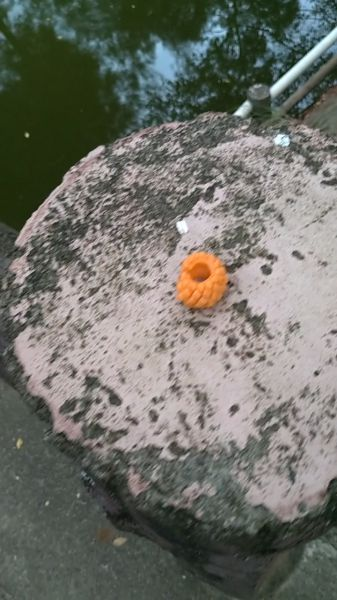eggs: (173, 244, 231, 313)
